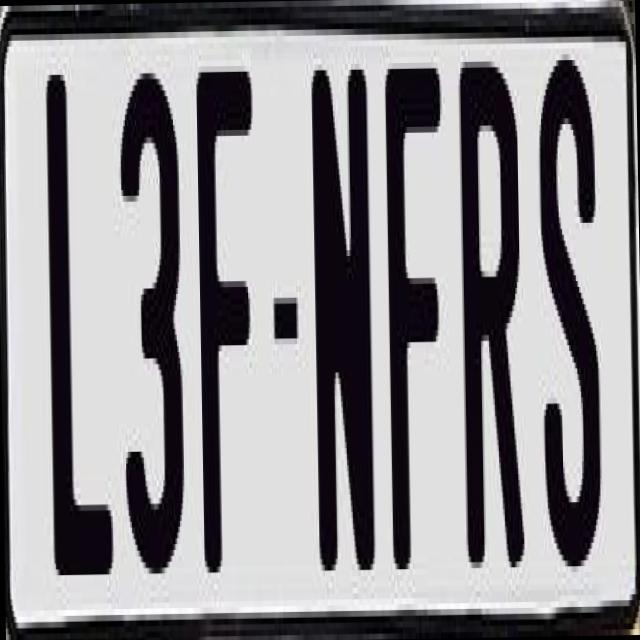3: (118, 61, 188, 580)
F: (384, 62, 454, 598), (194, 65, 264, 584)
L: (44, 68, 114, 592)
N: (308, 58, 376, 558)
R: (453, 43, 524, 550)
S: (536, 48, 606, 578)
